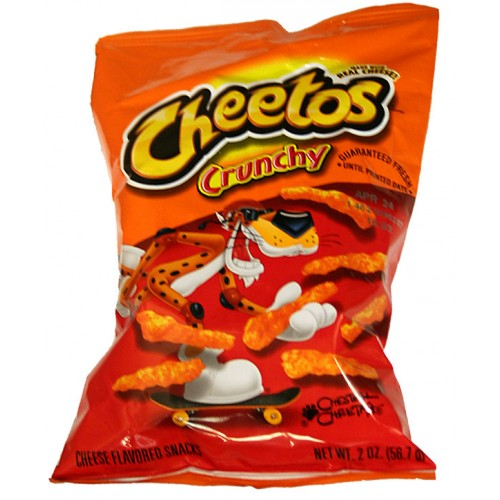cheetos: (57, 14, 440, 487)
